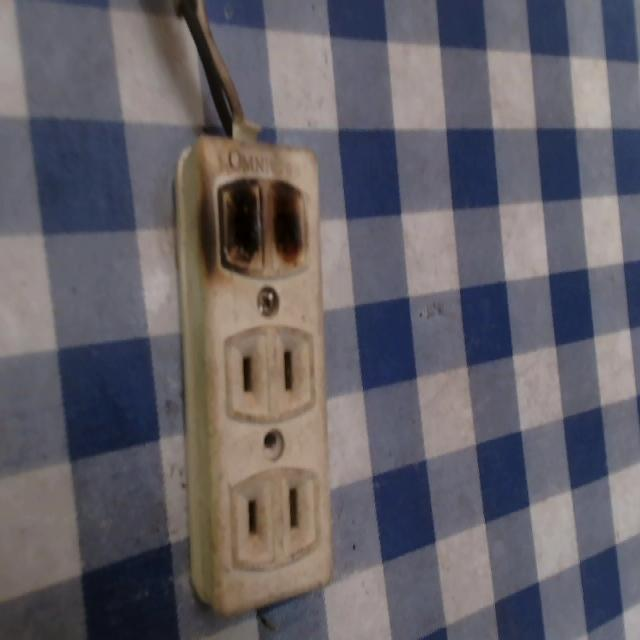-: (198, 157, 311, 283)
